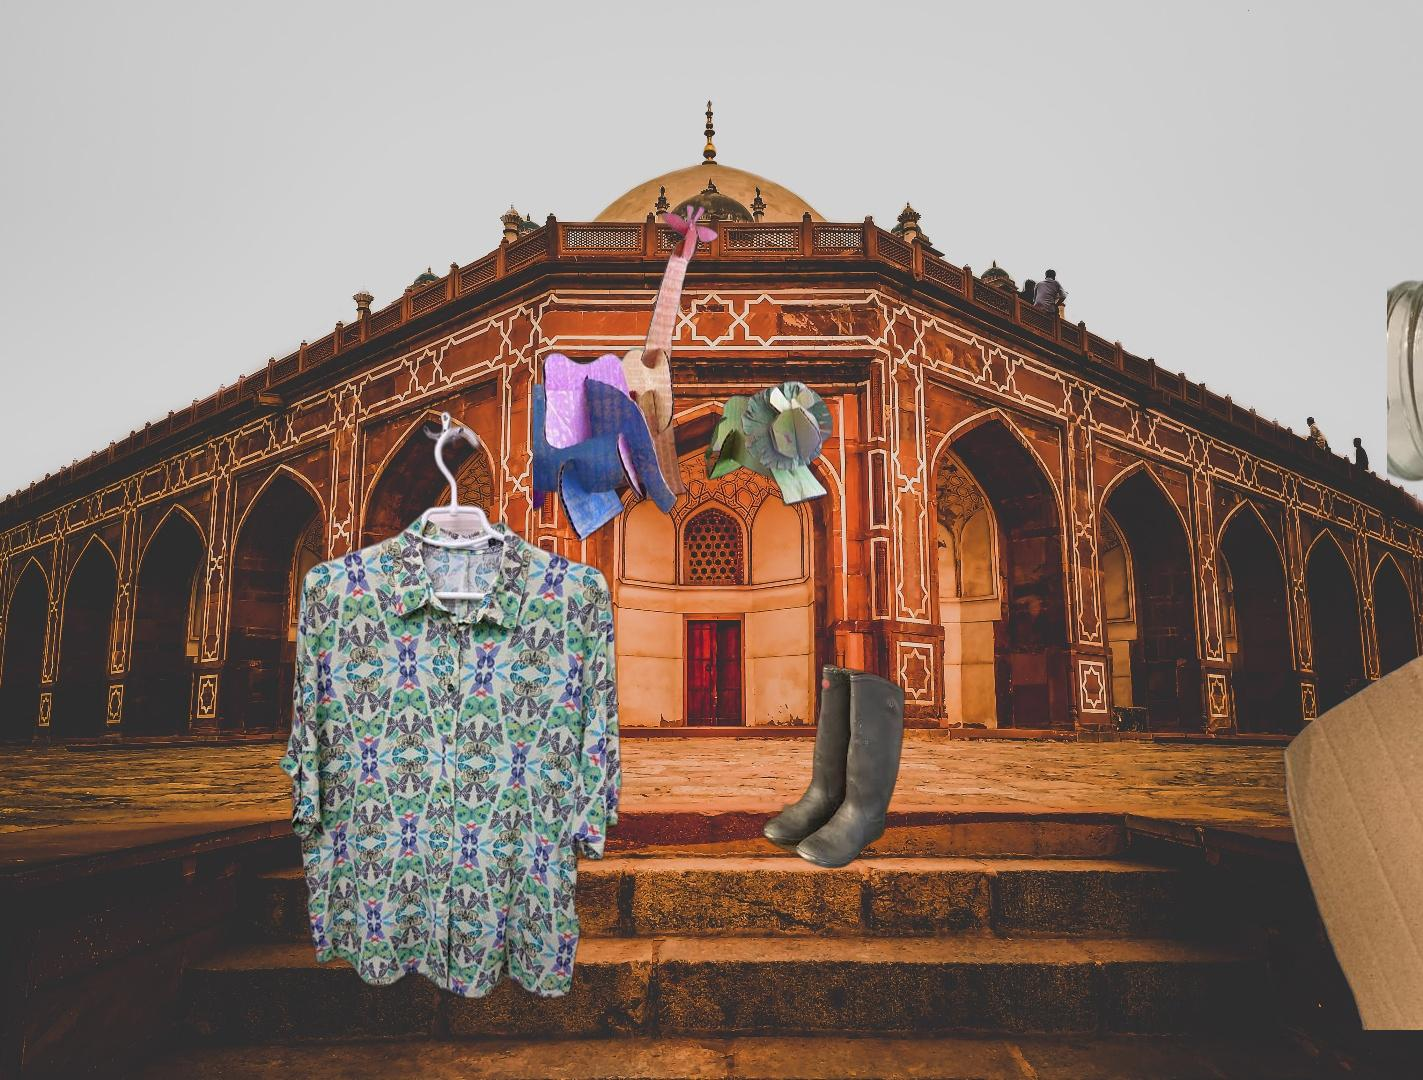clothes: (276, 405, 626, 1005)
glass: (1387, 231, 1423, 573)
shoes: (758, 659, 908, 871)
trashbox-cardboard: (533, 201, 833, 547), (1250, 646, 1423, 1030)
